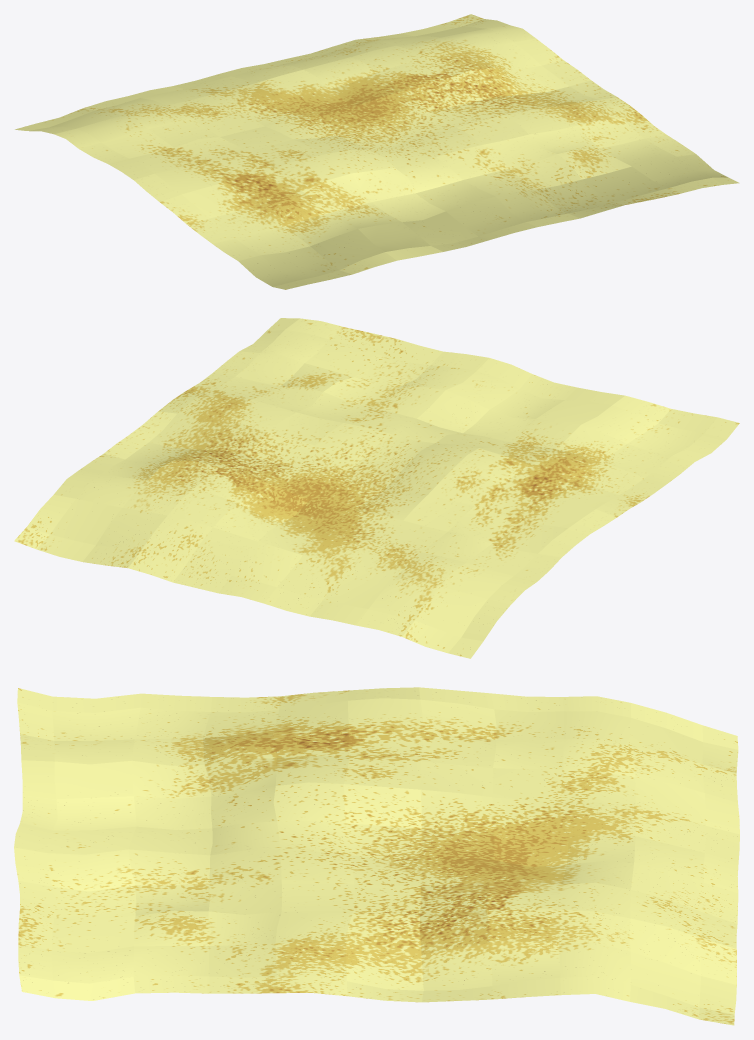
The model's file is SandGroundv2.fbx.
The picture shows the model from 3 angles, top to bottom: view 1: azimuth 30°, elevation 25°; view 2: azimuth 150°, elevation 25°; view 3: azimuth 270°, elevation 25°; orthographic projection. The views are drawn at different scales.
Visible parts, largest first — view 1: sandy_floor; view 2: sandy_floor; view 3: sandy_floor.
Part boxes in pixels (left/top/right/bottom): sandy_floor: left=15, top=14, right=739, bottom=289; sandy_floor: left=14, top=318, right=739, bottom=658; sandy_floor: left=14, top=687, right=739, bottom=1025.
Bounding box in the file's own units: 3276 × 308 × 3359.
1 material, 1 textured.
